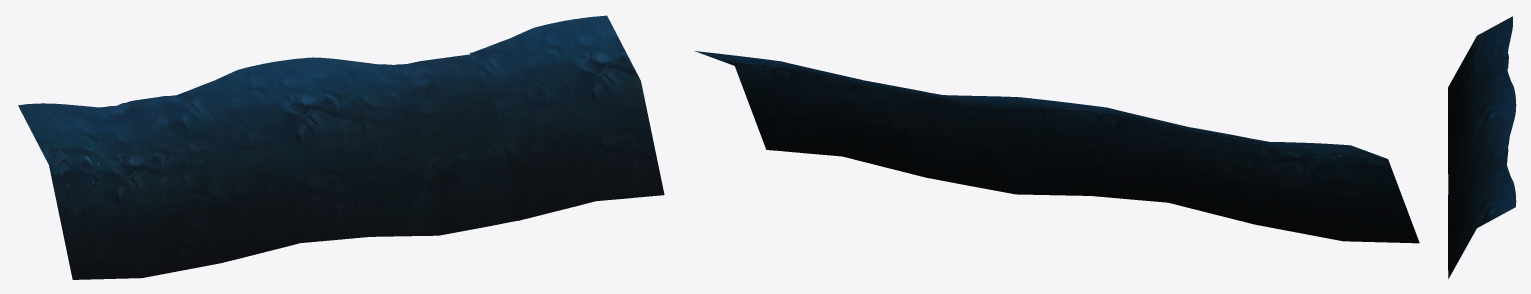
The model's file is Dark Forest Grass Landscape Dark B.FBX.
The picture shows the model from 3 angles, left to right: view 1: azimuth 30°, elevation 25°; view 2: azimuth 150°, elevation 25°; view 3: azimuth 270°, elevation 25°; orthographic projection. The views are drawn at different scales.
Parts seen in each view (by area): view 1: Grass Landscape Dark B; view 2: Grass Landscape Dark B; view 3: Grass Landscape Dark B.
Part boxes in pixels (x1=…): Grass Landscape Dark B: x1=18, y1=15, x2=664, y2=279; Grass Landscape Dark B: x1=695, y1=51, x2=1419, y2=243; Grass Landscape Dark B: x1=1448, y1=16, x2=1516, y2=278.
Bounding box in the file's own units: 2571 × 466 × 804.
